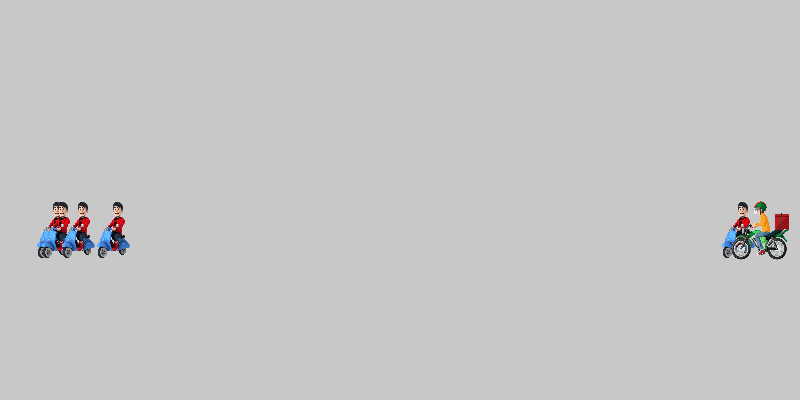helmet: (730, 200, 790, 260)
no_helmet: (25, 200, 85, 260), (30, 200, 90, 260), (50, 200, 110, 260), (85, 200, 145, 260), (710, 200, 770, 260)
